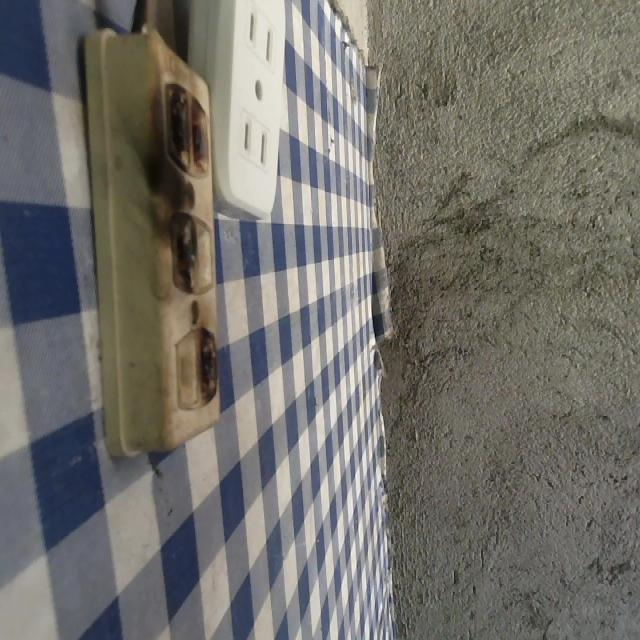-: (136, 56, 223, 187), (150, 200, 206, 307), (193, 321, 221, 411)
